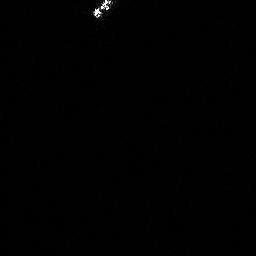ship: (91, 1, 115, 20)
